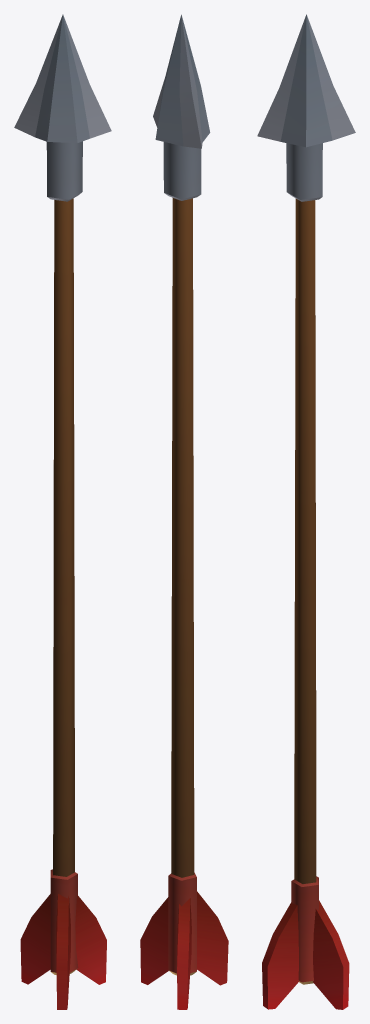
Rendered from Arrow_1_B.glb.
The picture shows the model from 3 angles, left to right: view 1: azimuth 90°, elevation 25°; view 2: azimuth 210°, elevation 25°; view 3: azimuth 270°, elevation 25°; orthographic projection.
Parts seen in each view (by area): view 1: Arrow_1_B; view 2: Arrow_1_B; view 3: Arrow_1_B.
Boxes of the visible parts, bbox=[...] form: Arrow_1_B: bbox=[14, 14, 111, 1009]; Arrow_1_B: bbox=[140, 14, 228, 1009]; Arrow_1_B: bbox=[257, 14, 355, 1009].
Size of the model in its own units: 0.0754 by 1.01 by 0.0913.
Materials: 2 (2 with a texture image).
